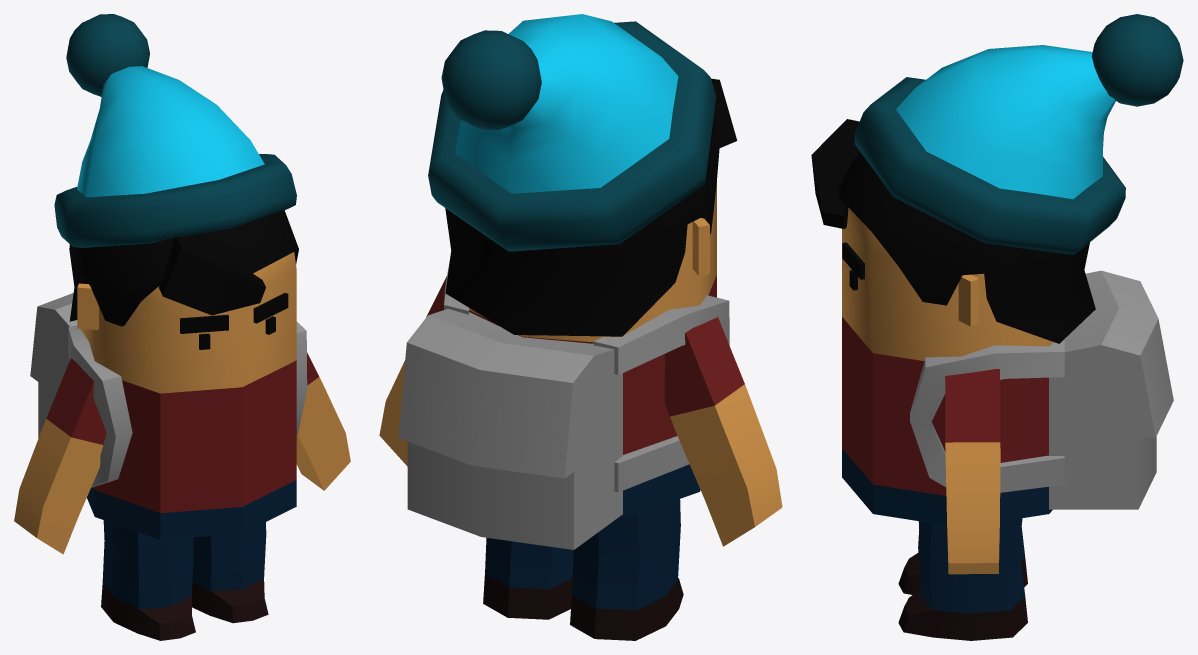
File: Character001.fbx
The picture shows the model from 3 angles, left to right: view 1: azimuth 30°, elevation 25°; view 2: azimuth 150°, elevation 25°; view 3: azimuth 270°, elevation 25°; orthographic projection. The views are drawn at different scales.
Visible parts, largest first — view 1: Character001; view 2: Character001; view 3: Character001.
Part boxes in pixels (x1=…): Character001: x1=14, y1=14, x2=350, y2=640; Character001: x1=379, y1=14, x2=782, y2=640; Character001: x1=811, y1=14, x2=1183, y2=640.
Bounding box in the file's own units: 42.41 × 68.73 × 39.62.
